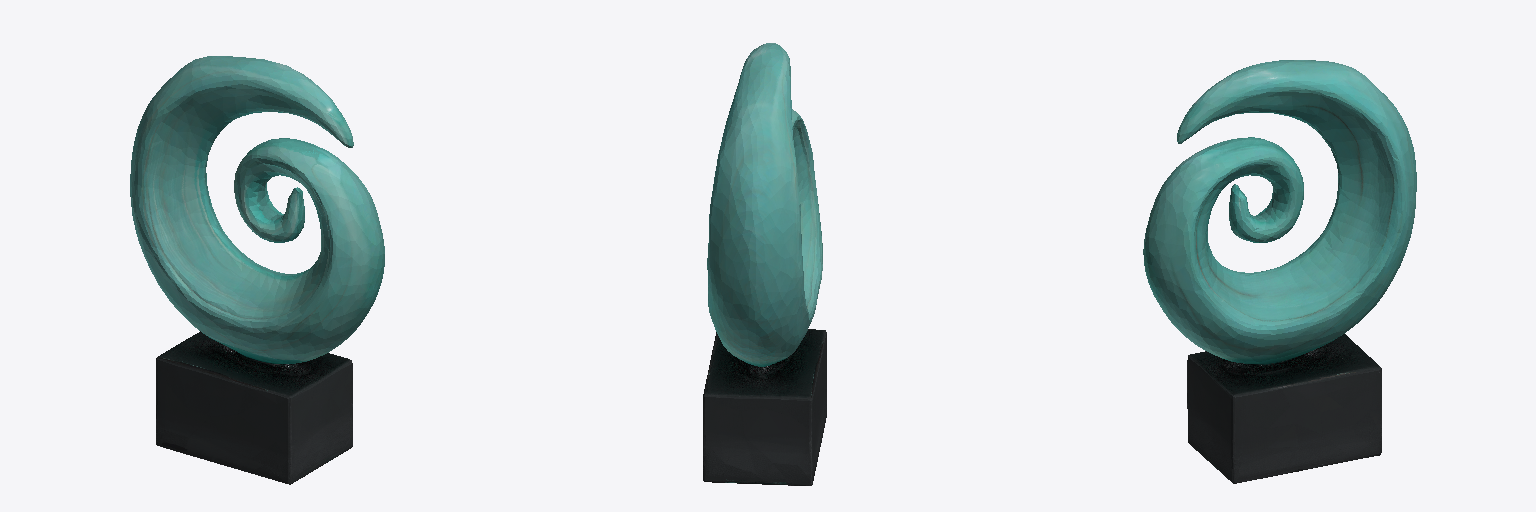
3 views of the same model, side by side, from view 1: azimuth 30°, elevation 25°; view 2: azimuth 150°, elevation 25°; view 3: azimuth 270°, elevation 25° (orthographic).
Visible parts, largest first — view 1: estatuanueva14; view 2: estatuanueva14; view 3: estatuanueva14.
Part boxes in pixels (x1,y1,x2,y2): estatuanueva14: (130,56,384,484); estatuanueva14: (703,43,826,485); estatuanueva14: (1143,60,1416,483).
Size of the model in its own units: 3.89 by 9.27 by 5.95.
Materials: 1 (1 with a texture image).